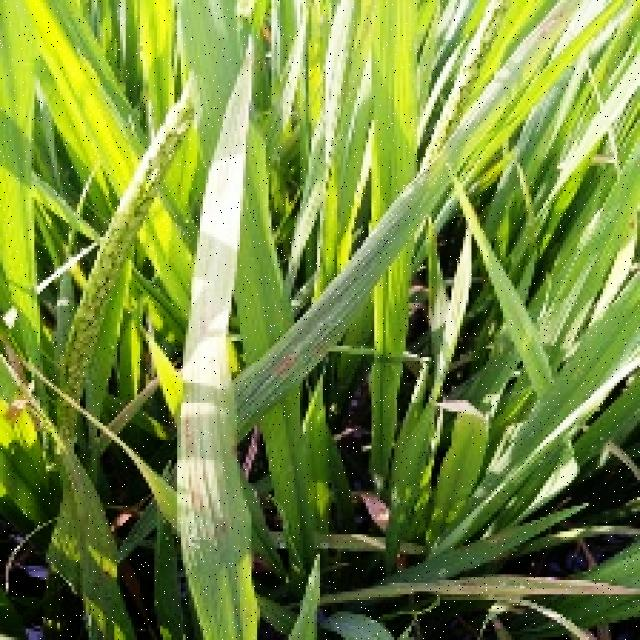-: (0, 0, 517, 320)
